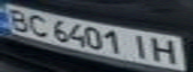0: (84, 25, 106, 51)
1: (103, 27, 124, 55)
4: (66, 21, 87, 47)
6: (48, 17, 72, 43)
B: (3, 6, 33, 33)
C: (24, 11, 51, 37)
H: (148, 35, 184, 65)
I: (127, 32, 154, 61)
